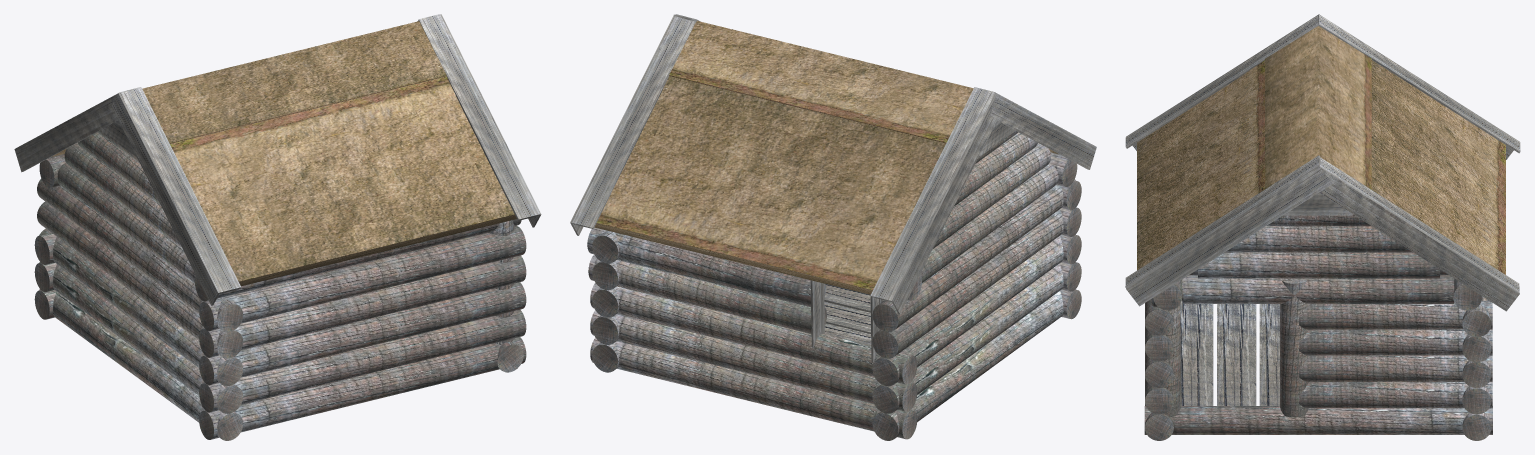
File: LogHouse01.FBX
3 renders of one model, left to right at view 1: azimuth 30°, elevation 25°; view 2: azimuth 150°, elevation 25°; view 3: azimuth 270°, elevation 25°, orthographic. The views are drawn at different scales.
Parts seen in each view (by area): view 1: House_LOD1; view 2: House_LOD1; view 3: House_LOD1.
Part boxes in pixels (box(x1,y1,x2,y2)): House_LOD1: box(14, 14, 541, 440); House_LOD1: box(570, 14, 1096, 440); House_LOD1: box(1125, 14, 1520, 440).
Bounding box in the file's own units: 733 × 624 × 804.
